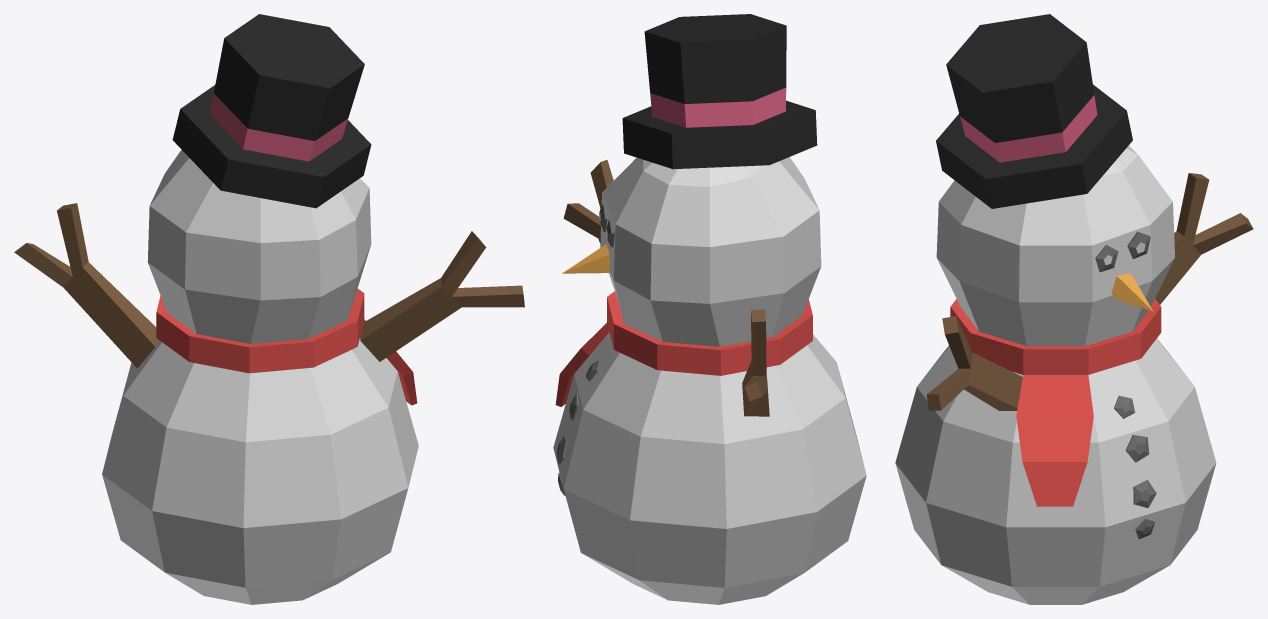
Rendered from Snowman.fbx.
The picture shows the model from 3 angles, left to right: view 1: azimuth 30°, elevation 25°; view 2: azimuth 150°, elevation 25°; view 3: azimuth 270°, elevation 25°; orthographic projection.
Visible parts, largest first — view 1: Snowman; view 2: Snowman; view 3: Snowman.
Part boxes in pixels (bbox=[...]): Snowman: bbox=[14, 14, 524, 604]; Snowman: bbox=[553, 14, 866, 604]; Snowman: bbox=[895, 14, 1253, 604].
Size of the model in its own units: 243 by 354 by 214.
